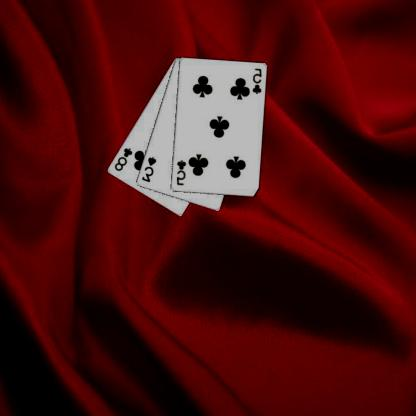3S: (141, 155, 159, 183)
5C: (175, 158, 189, 187), (252, 66, 264, 96)
8C: (113, 145, 135, 172)
